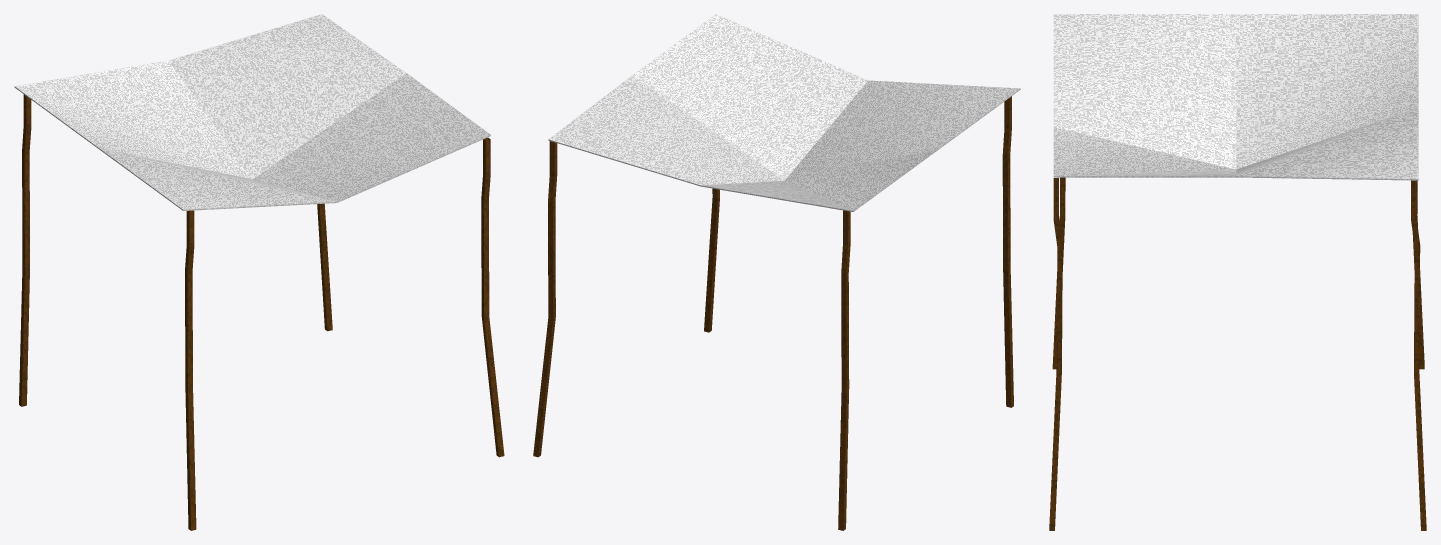
Rendered from BLOCKUYGON_BASIC TENT.fbx.
3 views of the same model, side by side, from view 1: azimuth 30°, elevation 25°; view 2: azimuth 150°, elevation 25°; view 3: azimuth 270°, elevation 25° (orthographic). The views are drawn at different scales.
Visible parts, largest first — view 1: BLOCKUYGON_BASIC_TENT; view 2: BLOCKUYGON_BASIC_TENT; view 3: BLOCKUYGON_BASIC_TENT.
Part boxes in pixels (x1,y1,x2,y2): BLOCKUYGON_BASIC_TENT: (14, 14, 504, 530); BLOCKUYGON_BASIC_TENT: (533, 14, 1020, 530); BLOCKUYGON_BASIC_TENT: (1049, 14, 1426, 530).
Bounding box in the file's own units: 447 × 431 × 423.
Materials: 2 (2 with a texture image).
